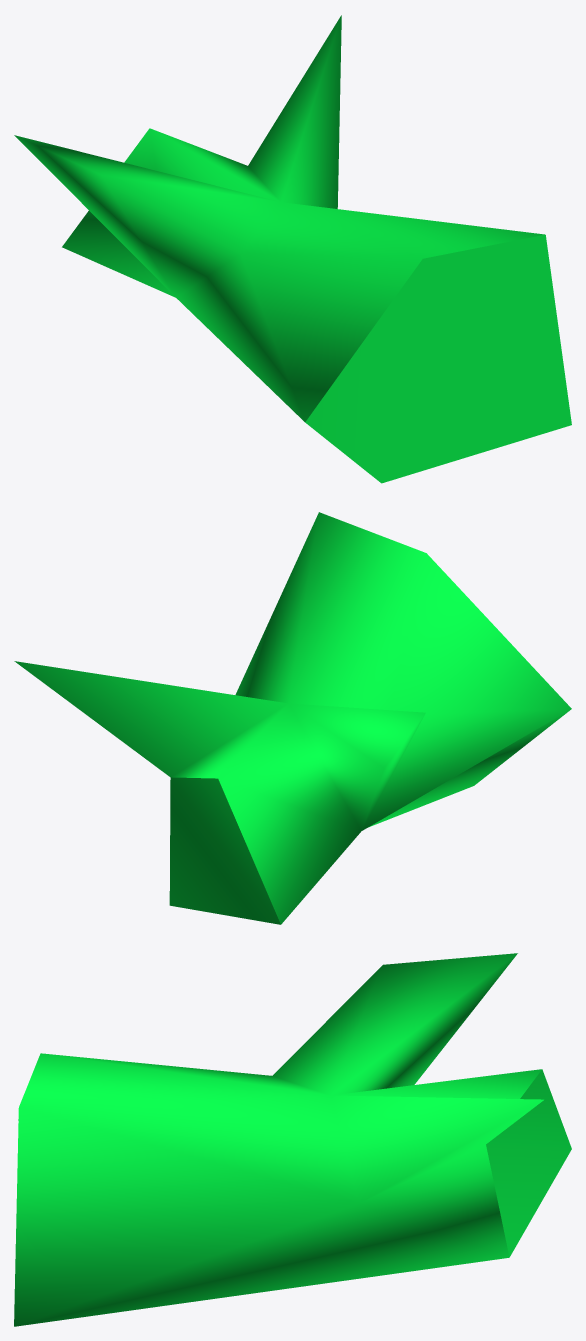
Rendered from Plant01_b_col.FBX.
3 views of the same model, one above another, from view 1: azimuth 30°, elevation 25°; view 2: azimuth 150°, elevation 25°; view 3: azimuth 270°, elevation 25° (orthographic). The views are drawn at different scales.
Parts seen in each view (by area): view 1: Plant01_b_col; view 2: Plant01_b_col; view 3: Plant01_b_col.
Part boxes in pixels (box(x1,y1,x2,y2)): Plant01_b_col: box(14, 15, 571, 483); Plant01_b_col: box(14, 512, 571, 924); Plant01_b_col: box(14, 953, 571, 1326).
Size of the model in its own units: 200 by 138 by 267.
